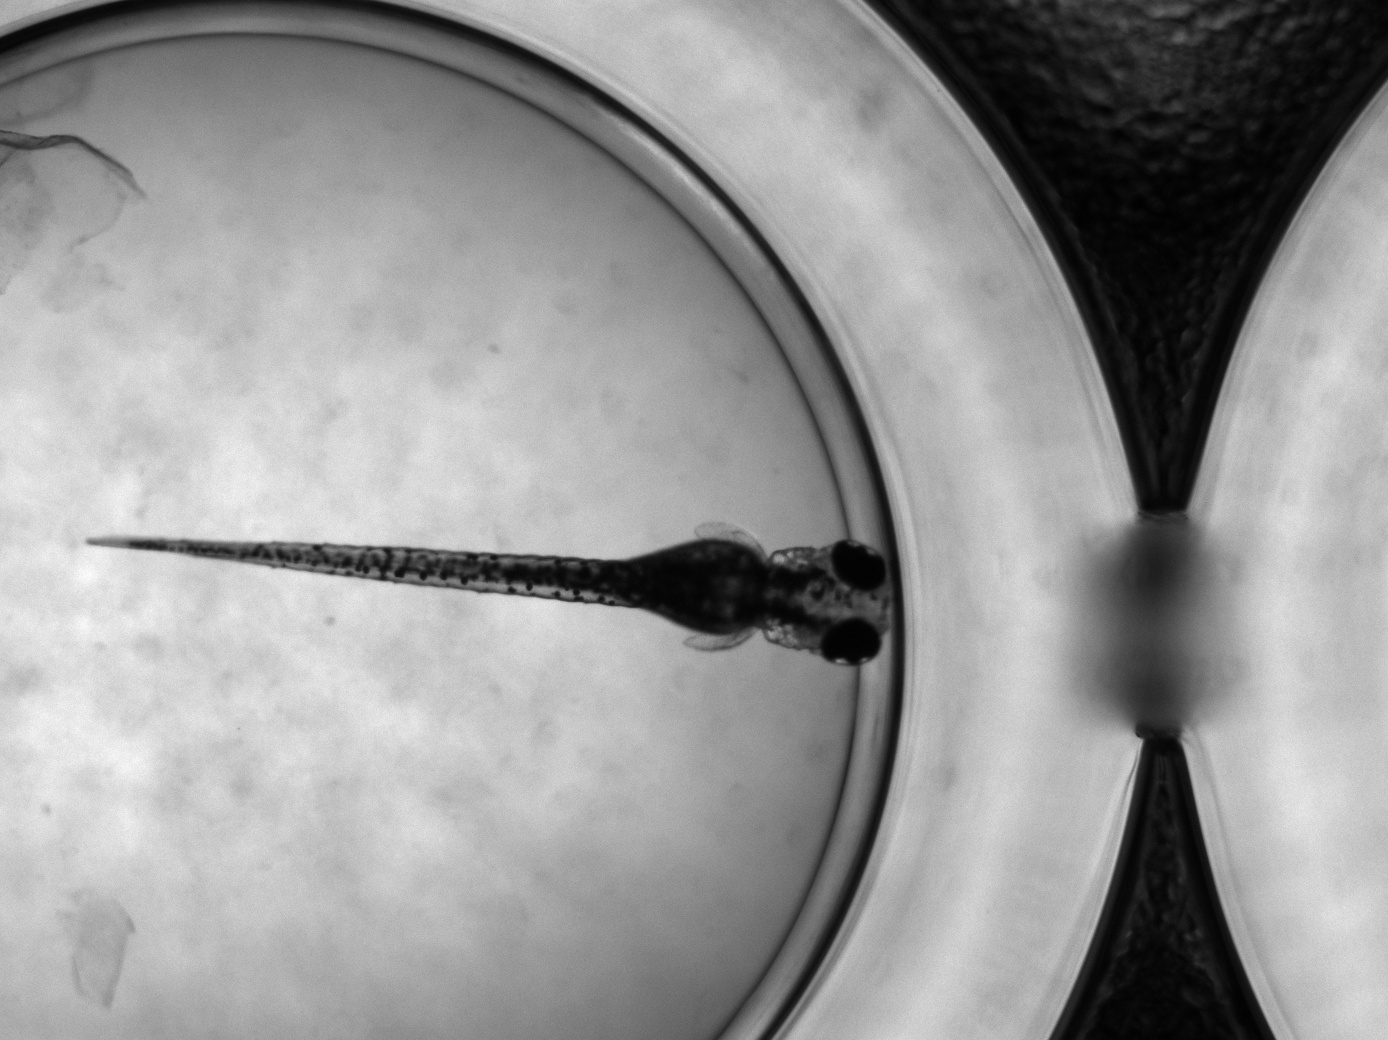debris: (1, 121, 149, 299)
embryo: (87, 522, 895, 666)
eye: (831, 539, 886, 590), (822, 618, 880, 666)
yolksac: (644, 534, 759, 634)
